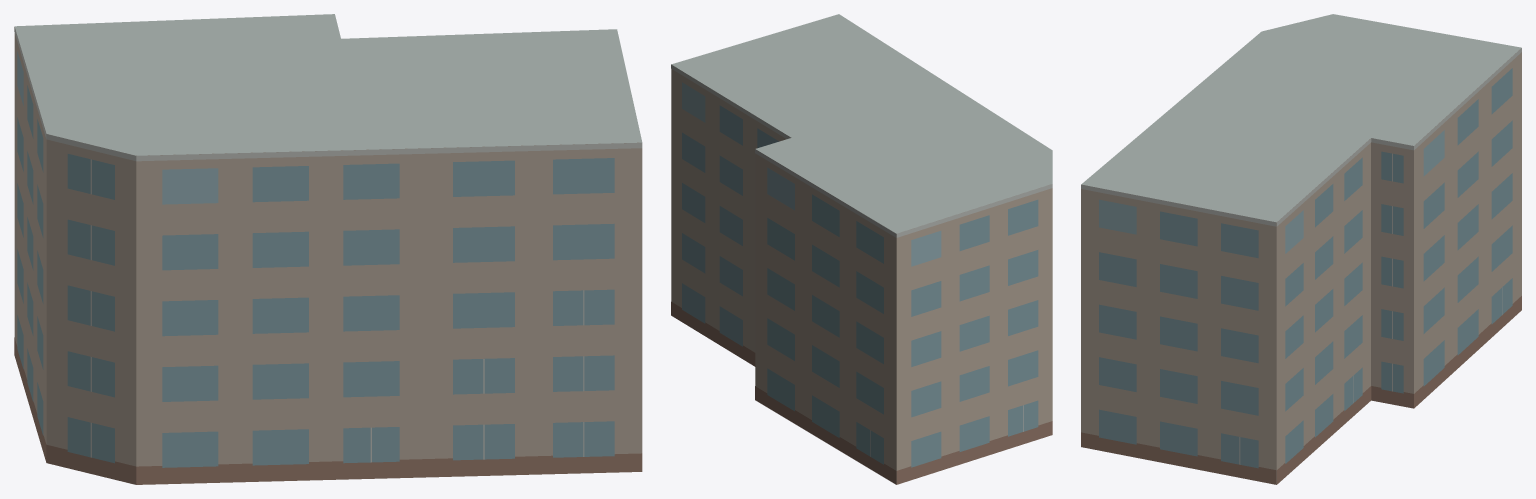
File: survey-upis-32488509.glb
3 views of the same model, side by side, from view 1: azimuth 30°, elevation 25°; view 2: azimuth 150°, elevation 25°; view 3: azimuth 270°, elevation 25° (orthographic). The views are drawn at different scales.
Parts seen in each view (by area): view 1: survey-upis-32488509.tmp; view 2: survey-upis-32488509.tmp; view 3: survey-upis-32488509.tmp.
Part boxes in pixels (x1,y1,x2,y2): survey-upis-32488509.tmp: [14, 14, 642, 484]; survey-upis-32488509.tmp: [671, 14, 1052, 484]; survey-upis-32488509.tmp: [1081, 14, 1521, 484].
Bounding box in the file's own units: 24.69 × 14.5 × 22.07.
